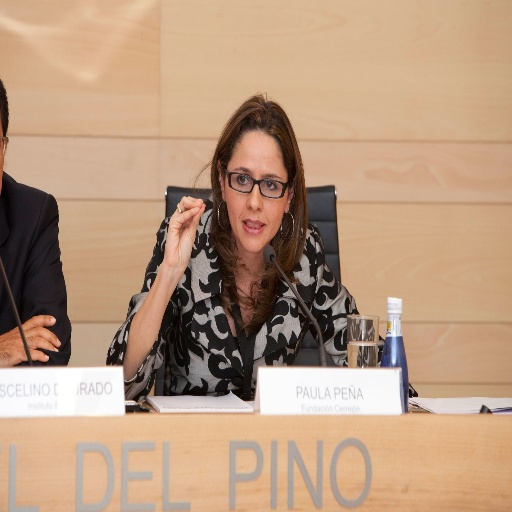hand: (0, 313, 61, 369), (153, 200, 207, 256)
